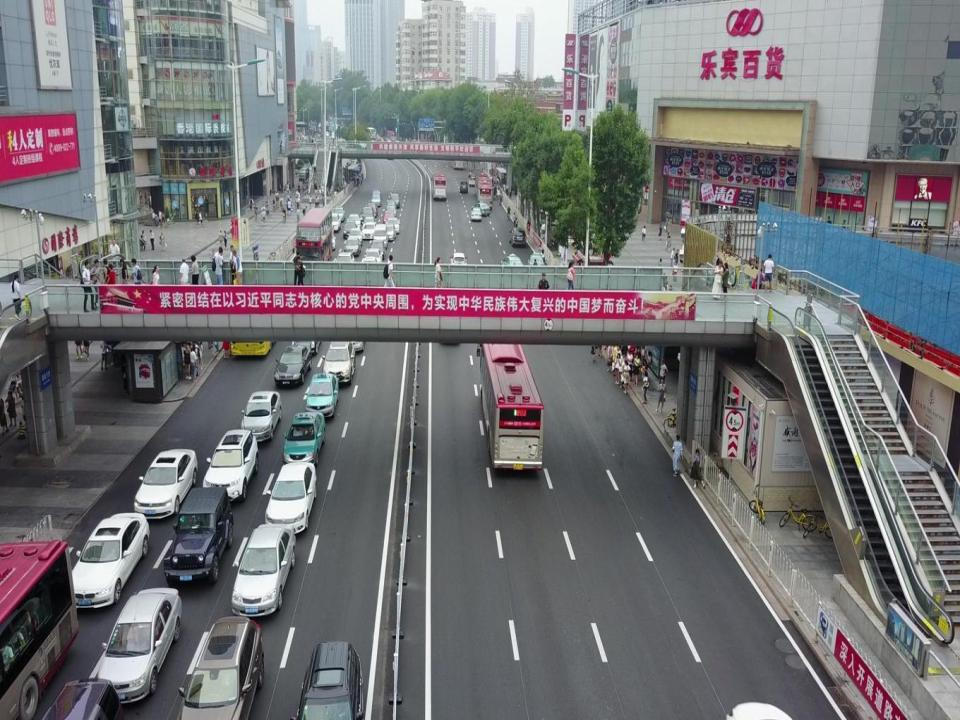bus: (0, 540, 78, 720), (477, 336, 546, 469), (231, 264, 286, 356), (296, 208, 332, 266), (476, 180, 492, 210), (431, 173, 446, 200), (474, 172, 490, 197), (448, 150, 464, 170)
car: (87, 586, 182, 702), (178, 615, 264, 720), (65, 513, 149, 607), (232, 523, 295, 615), (291, 641, 363, 720), (134, 448, 198, 518), (202, 429, 258, 502), (266, 461, 317, 534), (282, 411, 326, 465), (241, 390, 281, 440), (273, 345, 313, 386), (305, 374, 338, 418), (323, 341, 355, 385), (500, 252, 525, 279), (335, 252, 355, 274), (528, 252, 545, 276), (450, 252, 467, 273), (347, 228, 364, 248), (509, 228, 527, 246), (343, 237, 361, 255), (472, 199, 491, 216), (361, 256, 378, 275), (320, 229, 336, 249), (368, 240, 386, 257), (364, 250, 383, 266), (326, 212, 341, 232), (361, 222, 376, 240), (343, 221, 358, 237), (362, 206, 376, 223), (386, 218, 400, 234), (383, 225, 396, 240), (348, 214, 361, 229), (366, 202, 378, 218), (332, 205, 344, 221), (363, 216, 376, 230), (389, 193, 401, 208), (382, 212, 396, 224), (386, 206, 398, 218), (371, 188, 383, 200), (370, 195, 382, 206), (385, 199, 396, 210), (472, 208, 482, 220), (460, 181, 468, 192), (469, 177, 476, 186)
van: (374, 224, 388, 248)
